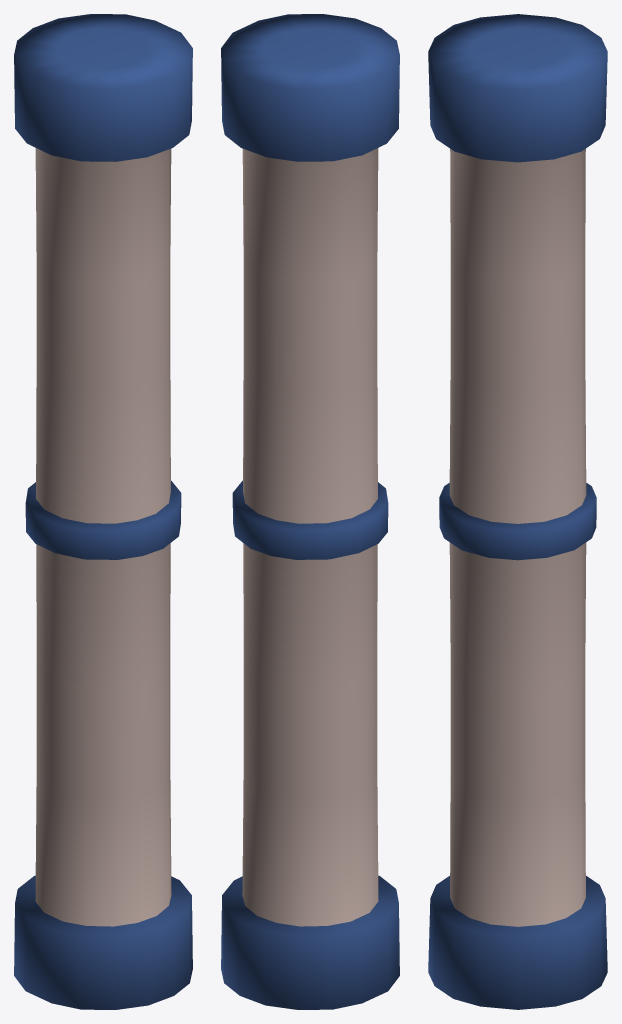
File: DecorationColumn.fbx
The picture shows the model from 3 angles, left to right: view 1: azimuth 30°, elevation 25°; view 2: azimuth 150°, elevation 25°; view 3: azimuth 270°, elevation 25°; orthographic projection.
Visible parts, largest first — view 1: RetopoGroup1; view 2: RetopoGroup1; view 3: RetopoGroup1.
Part boxes in pixels (<box>): RetopoGroup1: <box>14,14,192,1009</box>; RetopoGroup1: <box>221,14,399,1009</box>; RetopoGroup1: <box>428,14,607,1009</box>.
Bounding box in the file's own units: 80 × 455 × 80.
